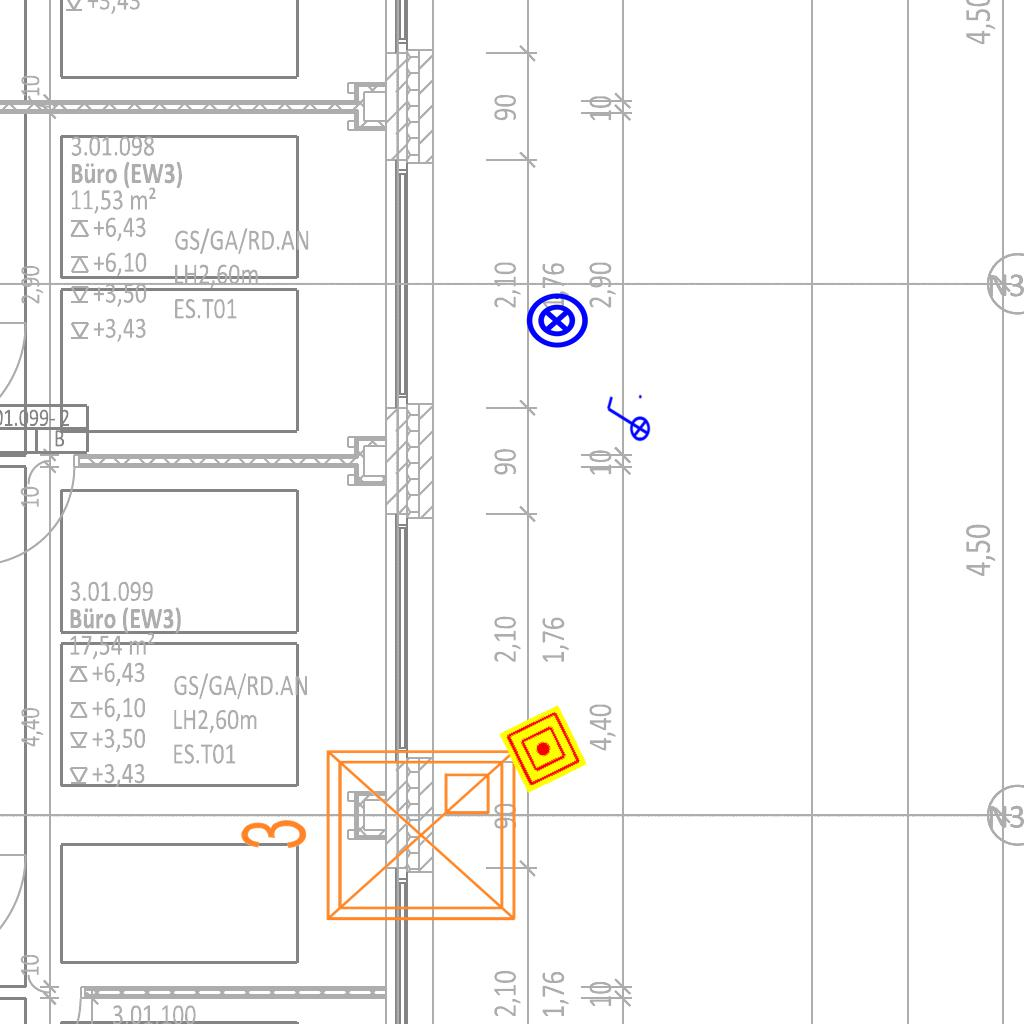Ausschalter_beleuchtet: (603, 392, 651, 448)
Einbaudownlights_LED_Konferenzraeume: (230, 735, 530, 943)
NAM-Nichtautomatischer_Melder: (498, 704, 588, 794)
Taster_beleuchtet: (524, 288, 590, 354)
